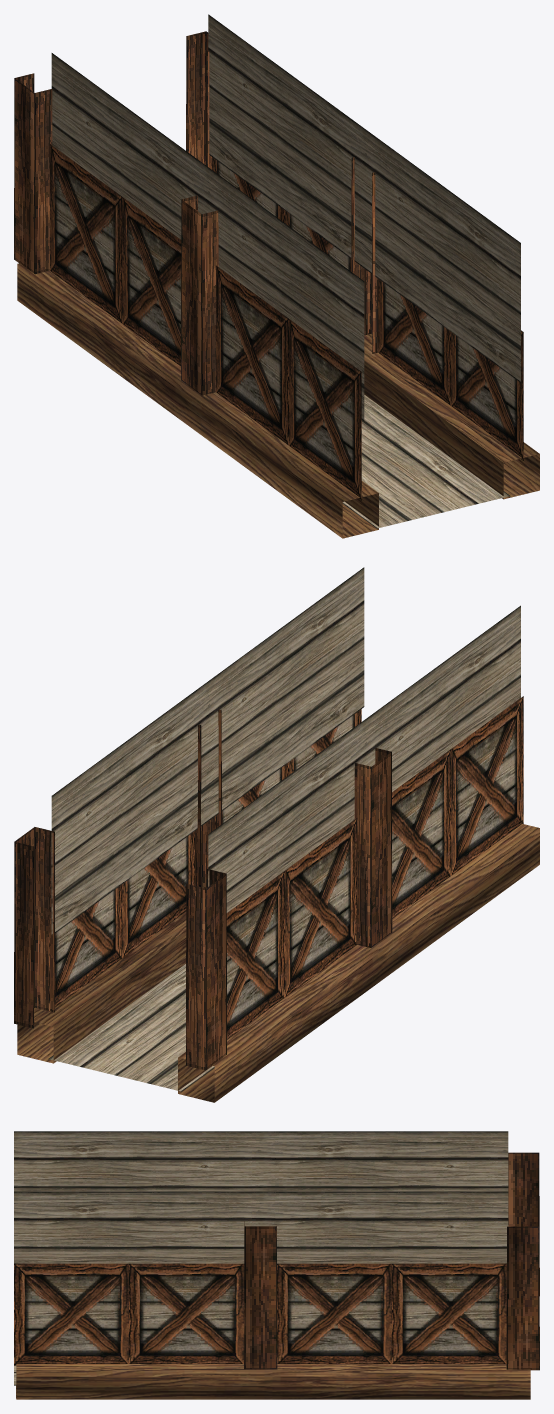
File: LAKETOWN_EXTERIOR_PS_LT_BRIDGE_828__GX.obj
The picture shows the model from 3 angles, top to bottom: view 1: azimuth 30°, elevation 25°; view 2: azimuth 150°, elevation 25°; view 3: azimuth 270°, elevation 25°; orthographic projection. The views are drawn at different scales.
Parts seen in each view (by area): view 1: _Bridge_828__GX; view 2: _Bridge_828__GX; view 3: _Bridge_828__GX.
Boxes of the visible parts, x1=… form: _Bridge_828__GX: x1=14, y1=14, x2=539, y2=538; _Bridge_828__GX: x1=14, y1=567, x2=539, y2=1102; _Bridge_828__GX: x1=14, y1=1131, x2=539, y2=1399.
Bounding box in the file's own units: 164 × 201 × 479.
